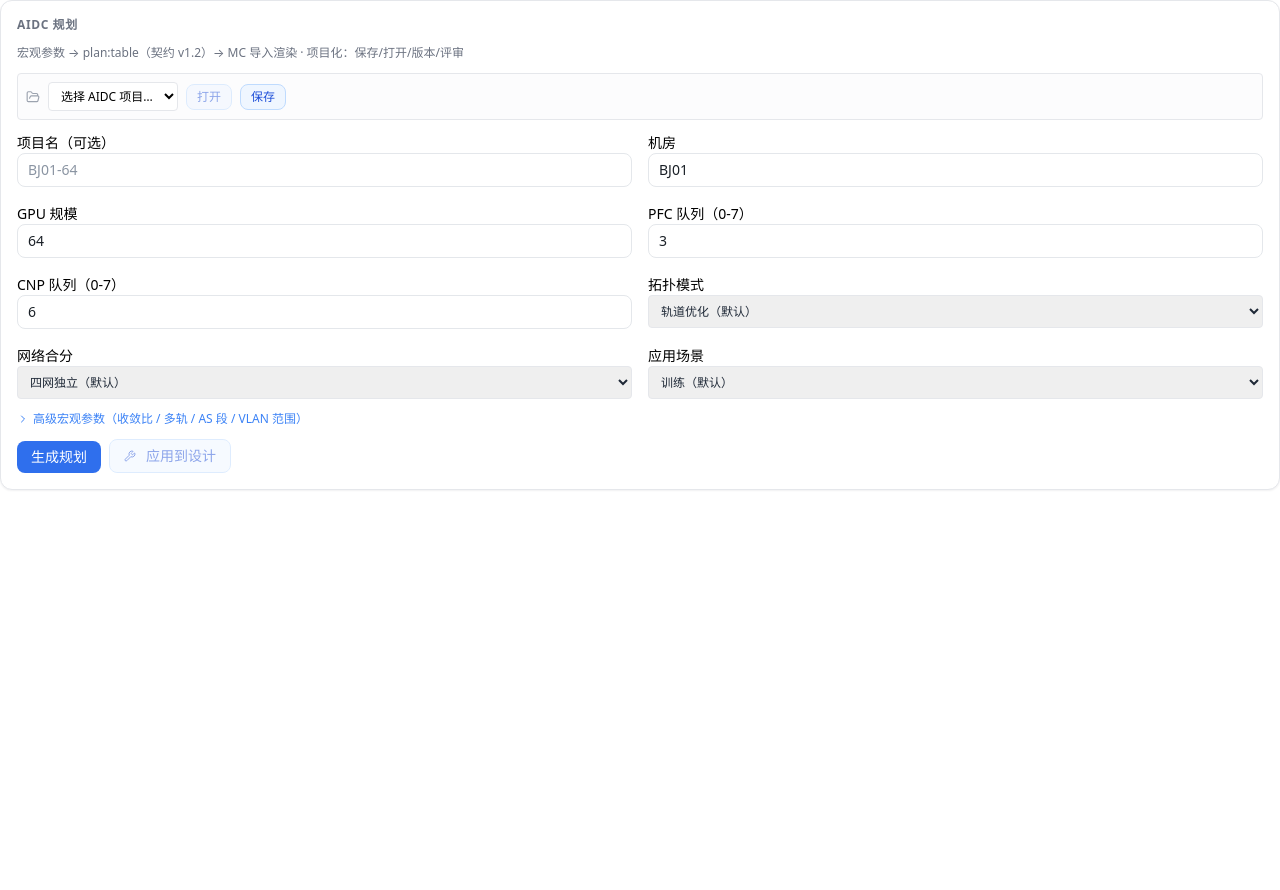
Test case: AidcPlannerPanel › 高级宏观参数编辑后随请求下发（camelCase/snake_case 转换）
Click the button "高级宏观参数（收敛比 / 多轨 / AS 段 / VLAN 范围）".
click(162, 419)  # box [17,411,308,427]
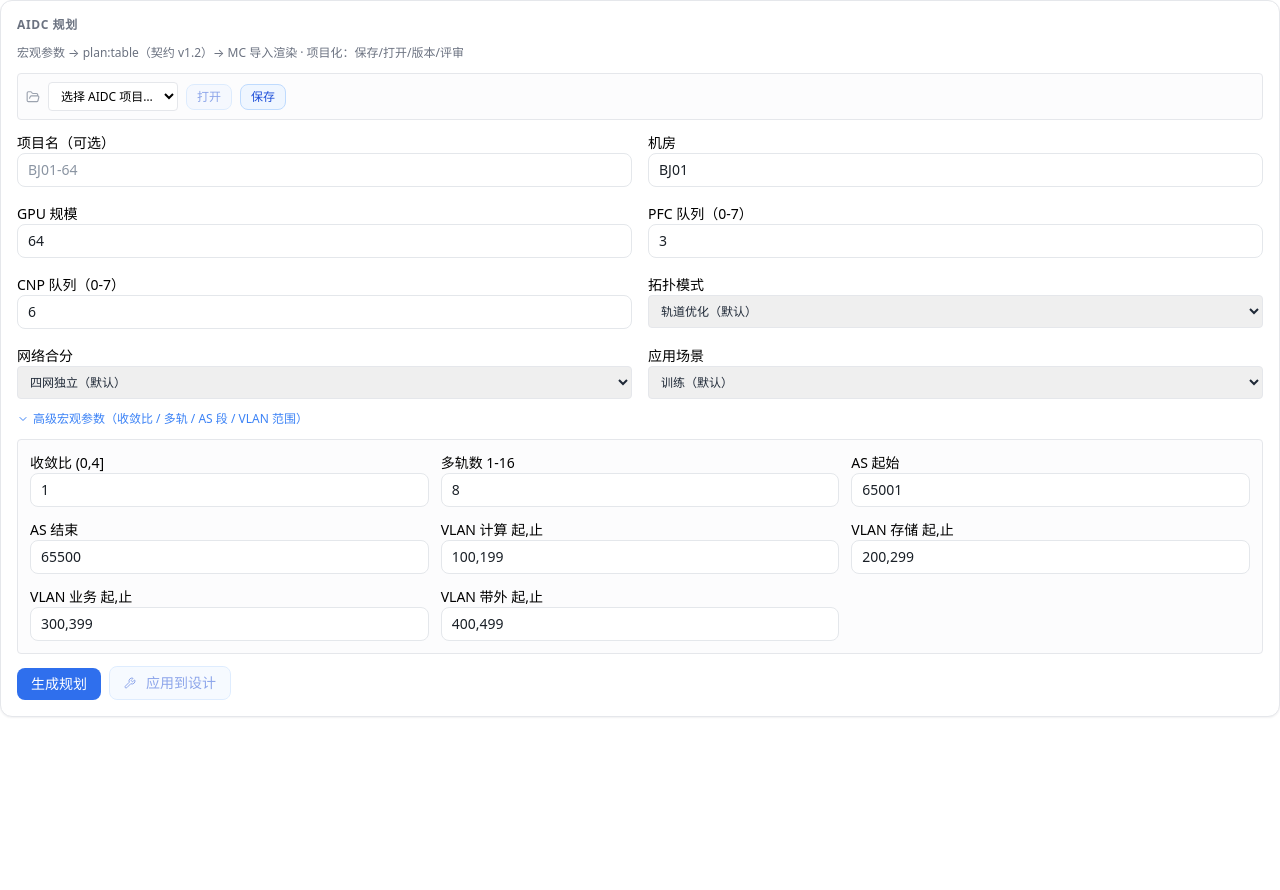
Replace the text in the number field named "收敛比" with "2" at (229, 490), box [30,473,429,507]
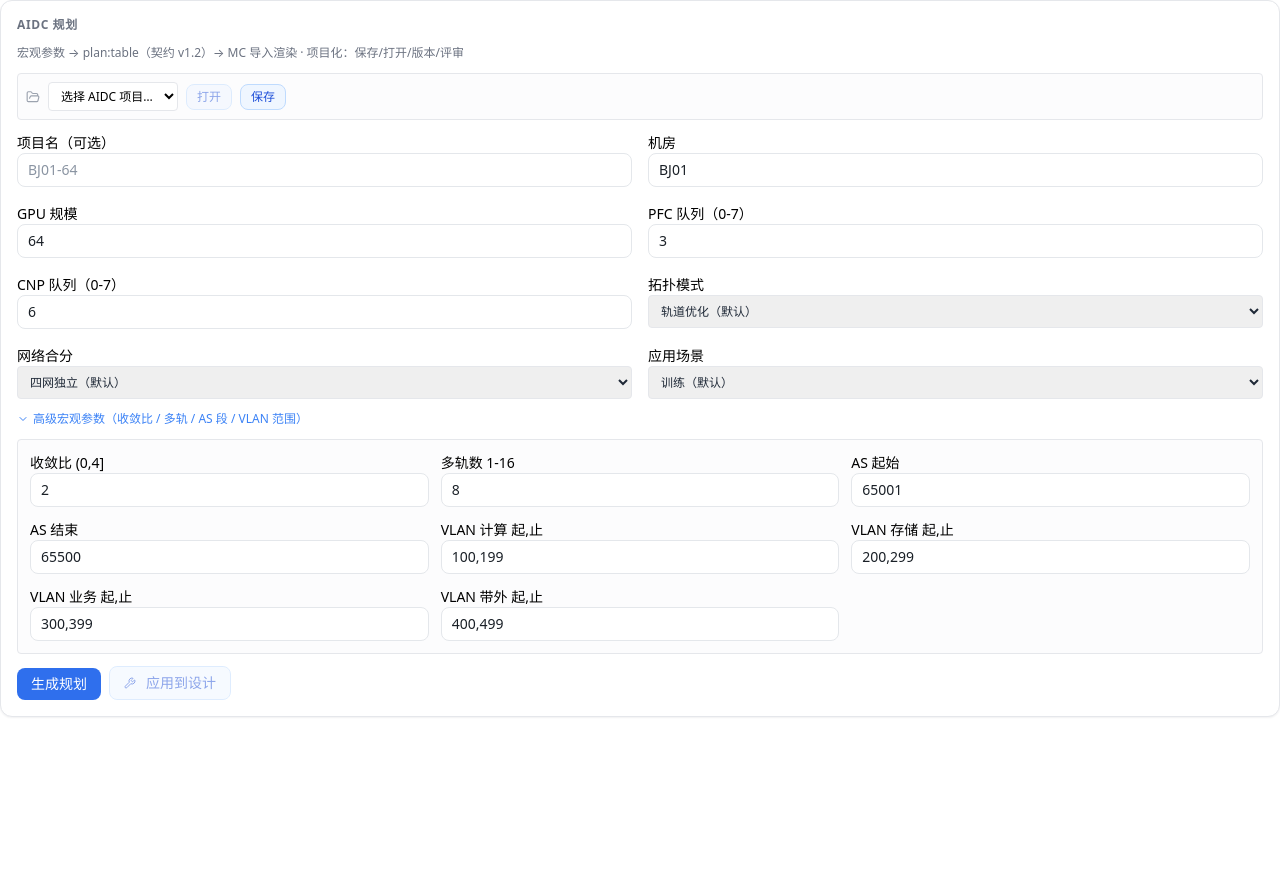
Replace the text in the number field named "AS 起始" with "65100" at (1051, 490), box [851,473,1250,507]
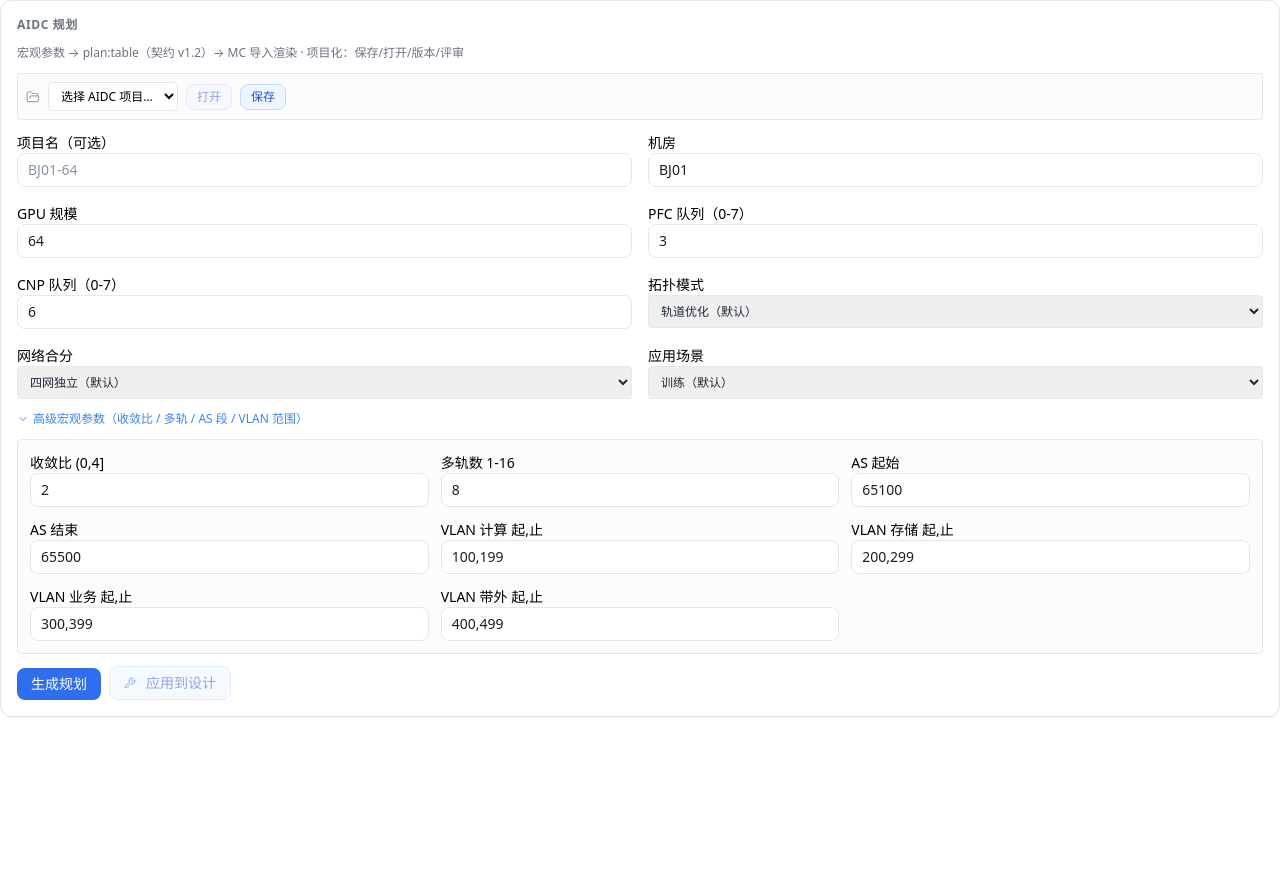
Click the button "生成规划".
click(59, 684)  # box [17,668,101,700]
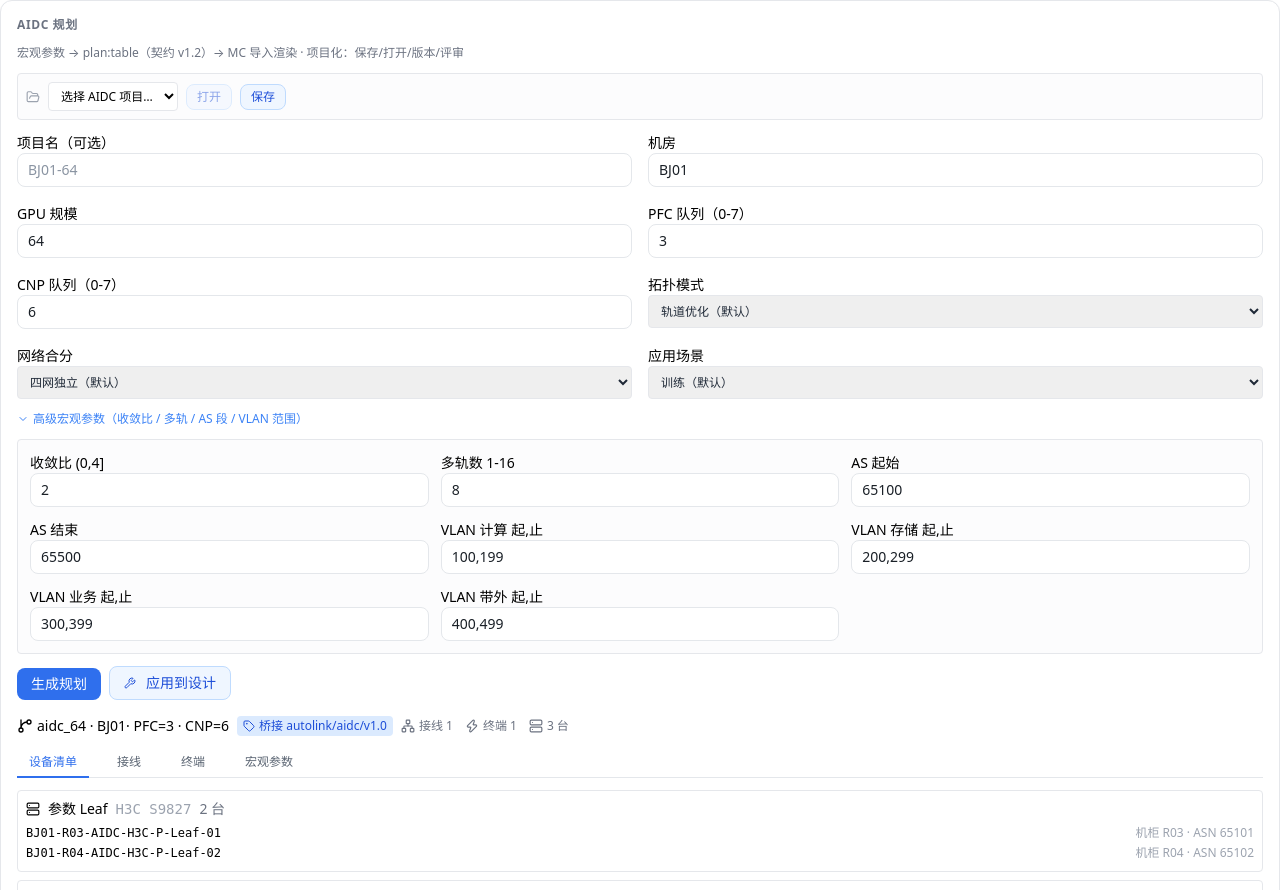
Expected: the text "aidc_64 · BJ01· PFC=3 · CNP=6" is shown, [17,716,229,736]
